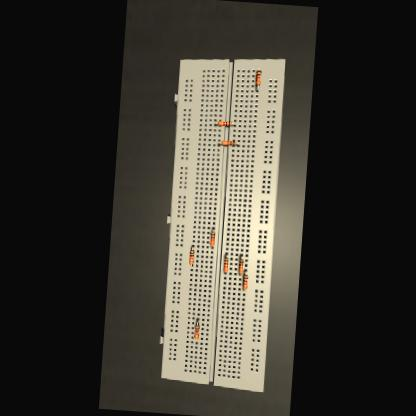breadboard: (154, 52, 286, 392)
resistor: (242, 274, 248, 290), (255, 70, 261, 86), (221, 140, 236, 146), (238, 260, 244, 274), (218, 121, 232, 127), (209, 232, 214, 247), (194, 325, 199, 340), (223, 258, 228, 272), (189, 250, 194, 264)
wire: (196, 318, 198, 324), (232, 124, 235, 127), (245, 269, 246, 275), (257, 86, 258, 92), (236, 144, 239, 146), (218, 143, 220, 146), (215, 124, 217, 127), (240, 254, 241, 259), (225, 253, 226, 258), (258, 68, 260, 70), (213, 228, 214, 232), (190, 264, 192, 266), (240, 274, 241, 276), (244, 290, 245, 291), (192, 245, 192, 250)
